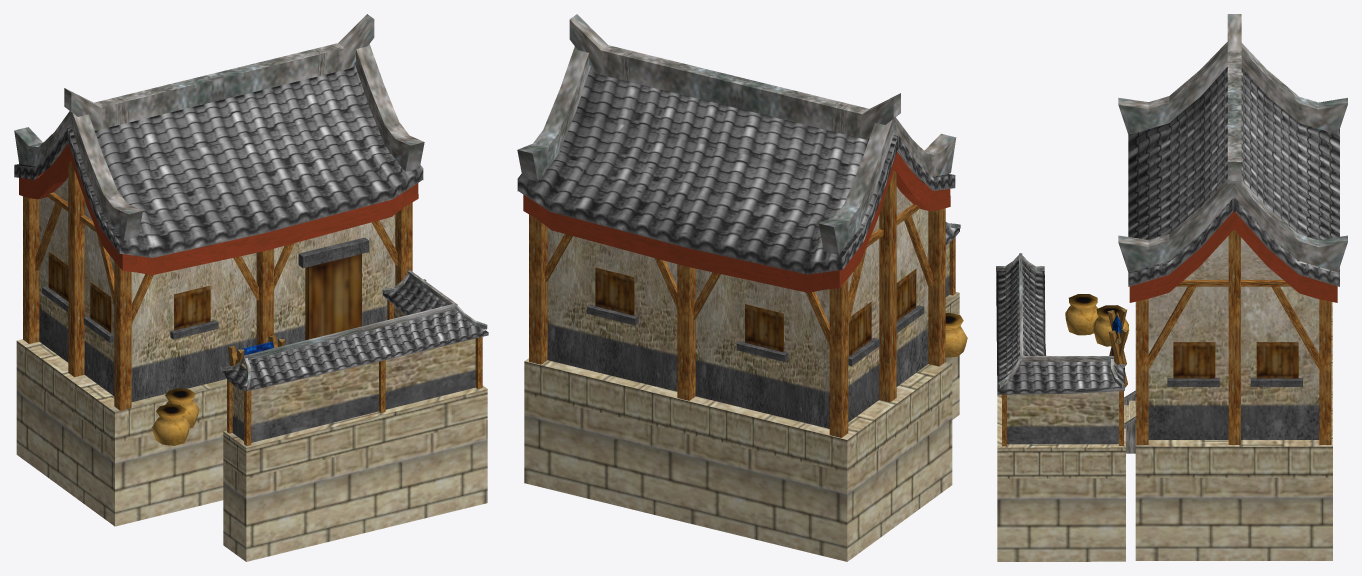
The model's file is house_01.dae.
The picture shows the model from 3 angles, left to right: view 1: azimuth 30°, elevation 25°; view 2: azimuth 150°, elevation 25°; view 3: azimuth 270°, elevation 25°; orthographic projection. The views are drawn at different scales.
Parts seen in each view (by area): view 1: house_1; view 2: house_1; view 3: house_1.
Boxes of the visible parts, x1=… form: house_1: x1=14, y1=14, x2=488, y2=561; house_1: x1=517, y1=14, x2=967, y2=561; house_1: x1=996, y1=14, x2=1347, y2=561.
Bounding box in the file's own units: 12.59 × 12.55 × 15.76.
